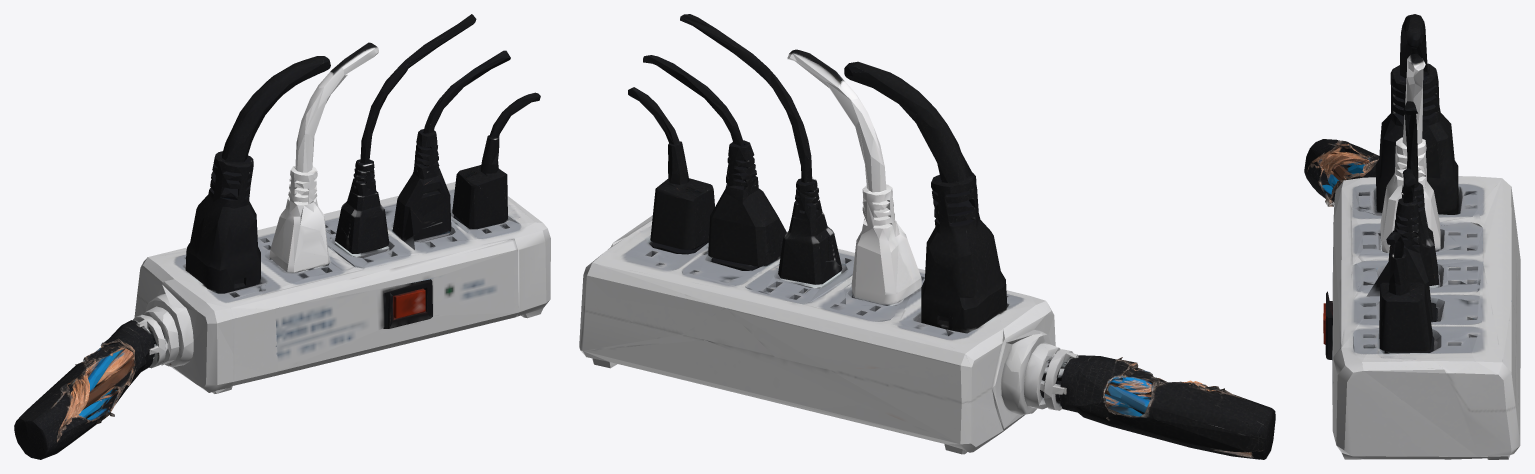
File: PowerStrip_low.fbx
3 renders of one model, left to right at view 1: azimuth 30°, elevation 25°; view 2: azimuth 150°, elevation 25°; view 3: azimuth 270°, elevation 25°, orthographic. The views are drawn at different scales.
Parts seen in each view (by area): view 1: PowerStrip_low; view 2: PowerStrip_low; view 3: PowerStrip_low.
Boxes of the visible parts, left/top/right/bottom form: PowerStrip_low: left=14, top=14, right=550, bottom=459; PowerStrip_low: left=579, top=14, right=1275, bottom=459; PowerStrip_low: left=1304, top=14, right=1520, bottom=459.
Size of the model in its own units: 190 by 101 by 57.02.
